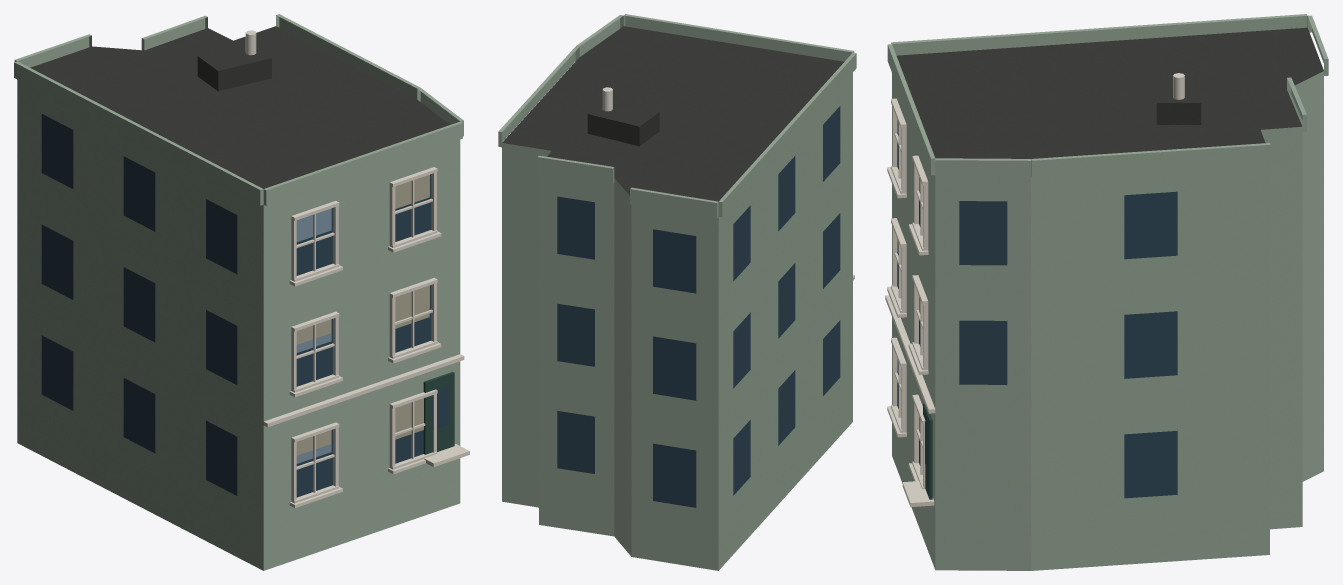
3 views of the same model, side by side, from view 1: azimuth 30°, elevation 25°; view 2: azimuth 150°, elevation 25°; view 3: azimuth 270°, elevation 25° (orthographic). The views are drawn at different scales.
Visible parts, largest first — view 1: Footprint 0 / surface 2, Footprint 0 / surface 1, Inset glazing, Cornices and window frames, Facade bay volumes, Interior blind variation, Storefronts and doors, Sky reflection panels, Inferred rooftop service enclosure / surface 5, Inferred rooftop service enclosure / surface 3; view 2: Footprint 0 / surface 2, Footprint 0 / surface 1, Inset glazing, Facade bay volumes, Inferred rooftop service enclosure / surface 6, Inferred rooftop service enclosure / surface 3; view 3: Footprint 0 / surface 2, Footprint 0 / surface 1, Inset glazing, Facade bay volumes, Cornices and window frames, Inferred rooftop service enclosure / surface 3, Inferred rooftop service enclosure / surface 1, Storefronts and doors.
Boxes of the visible parts, box(x1,y1,x2,y2) form: Footprint 0 / surface 2: box(17, 80, 460, 570); Footprint 0 / surface 1: box(30, 26, 449, 188); Inset glazing: box(41, 114, 448, 497); Cornices and window frames: box(263, 167, 469, 507); Facade bay volumes: box(14, 14, 463, 205); Interior blind variation: box(296, 175, 429, 455); Storefronts and doors: box(423, 372, 454, 454); Sky reflection panels: box(296, 174, 429, 463); Inferred rooftop service enclosure / surface 5: box(218, 58, 271, 91); Inferred rooftop service enclosure / surface 3: box(198, 44, 271, 70); Footprint 0 / surface 2: box(502, 73, 852, 570); Footprint 0 / surface 1: box(502, 26, 844, 201); Inset glazing: box(557, 106, 840, 507); Facade bay volumes: box(498, 14, 856, 218); Inferred rooftop service enclosure / surface 6: box(587, 114, 639, 146); Inferred rooftop service enclosure / surface 3: box(588, 100, 659, 126); Footprint 0 / surface 2: box(892, 71, 1323, 570); Footprint 0 / surface 1: box(896, 27, 1323, 158); Inset glazing: box(897, 132, 1177, 498); Facade bay volumes: box(887, 14, 1328, 177); Cornices and window frames: box(885, 98, 935, 507); Inferred rooftop service enclosure / surface 3: box(1156, 74, 1201, 102); Inferred rooftop service enclosure / surface 1: box(1156, 103, 1201, 124); Storefronts and doors: box(923, 403, 932, 499).
Bounding box in the file's own units: 9.34 × 13.17 × 11.91.
